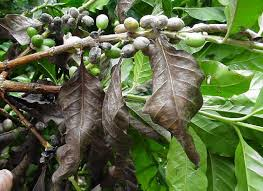mal de hilachas: (33, 4, 225, 186)
